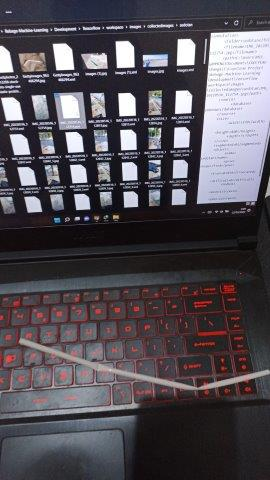sedotan: (19, 338, 269, 390)
